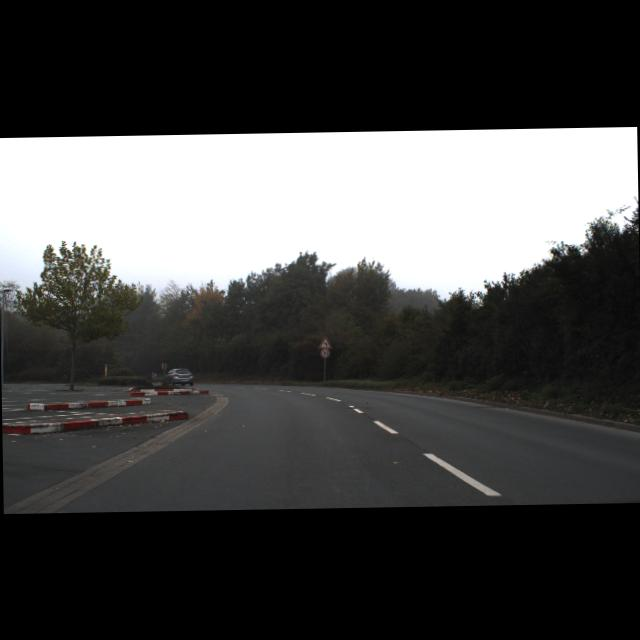danger: (318, 337, 331, 348)
prohibitory: (320, 348, 330, 358)
